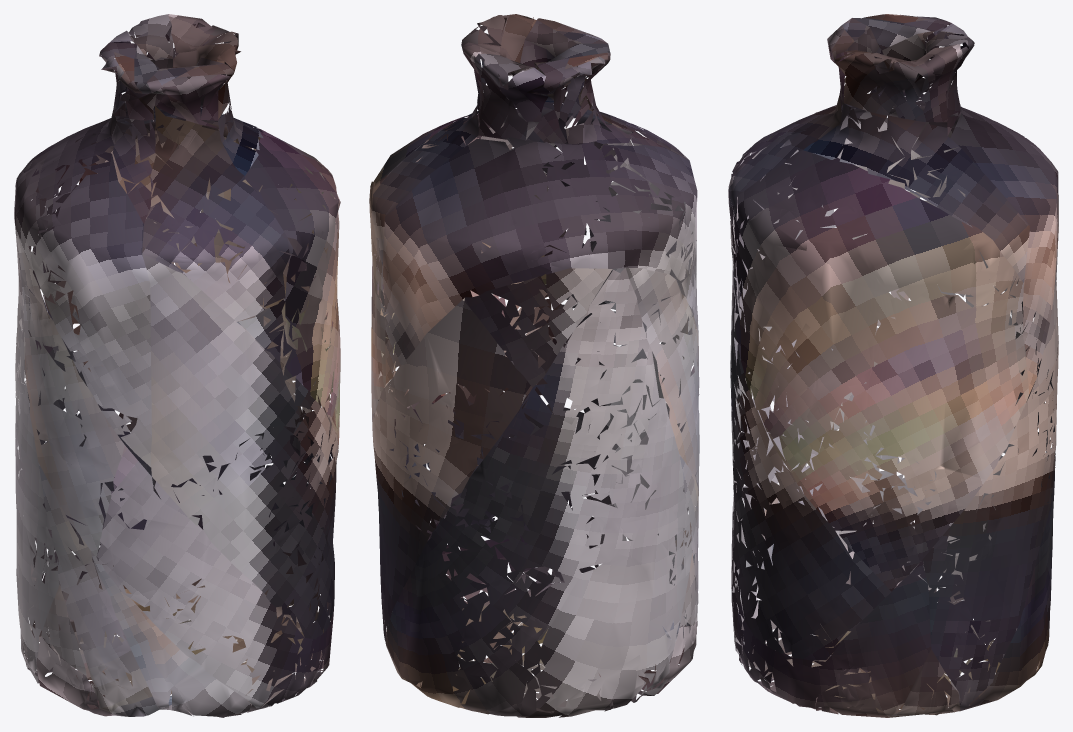
File: stoneware_ink_bottle.glb
The picture shows the model from 3 angles, left to right: view 1: azimuth 30°, elevation 25°; view 2: azimuth 150°, elevation 25°; view 3: azimuth 270°, elevation 25°; orthographic projection.
Visible parts, largest first — view 1: Object_2, Object_9, Object_10, Object_8, Object_11, Object_7, Object_3, Object_6, Object_5, Object_4; view 2: Object_6, Object_7, Object_8, Object_4, Object_5, Object_11, Object_2, Object_9, Object_10, Object_3; view 3: Object_10, Object_5, Object_3, Object_6, Object_2, Object_4, Object_7, Object_11, Object_9, Object_8.
Boxes of the visible parts, x1,y1,x2,y2 form: Object_2: (30, 141, 339, 659); Object_9: (19, 225, 339, 717); Object_10: (45, 25, 340, 712); Object_8: (15, 305, 281, 697); Object_11: (23, 22, 337, 617); Object_7: (14, 14, 328, 641); Object_3: (66, 339, 339, 716); Object_6: (14, 103, 308, 554); Object_5: (15, 183, 340, 508); Object_4: (22, 408, 293, 672); Object_6: (369, 81, 685, 510); Object_7: (369, 15, 698, 717); Object_8: (449, 262, 699, 717); Object_4: (372, 376, 679, 713); Object_5: (371, 230, 647, 621); Object_11: (442, 14, 695, 540); Object_2: (393, 123, 698, 603); Object_9: (481, 113, 699, 701); Object_10: (416, 14, 693, 596); Object_3: (374, 349, 698, 679); Object_10: (728, 51, 954, 691); Object_5: (738, 265, 1058, 602); Object_3: (733, 410, 999, 717); Object_6: (734, 98, 1058, 521); Object_2: (730, 94, 922, 714); Object_4: (892, 361, 1055, 715); Object_7: (818, 23, 1058, 487); Object_11: (728, 14, 974, 654); Object_9: (730, 160, 939, 679); Object_8: (733, 235, 1057, 665).
Bounding box in the file's own units: 0.2611 × 0.5438 × 0.26.
Materials: 1 (1 with a texture image).
